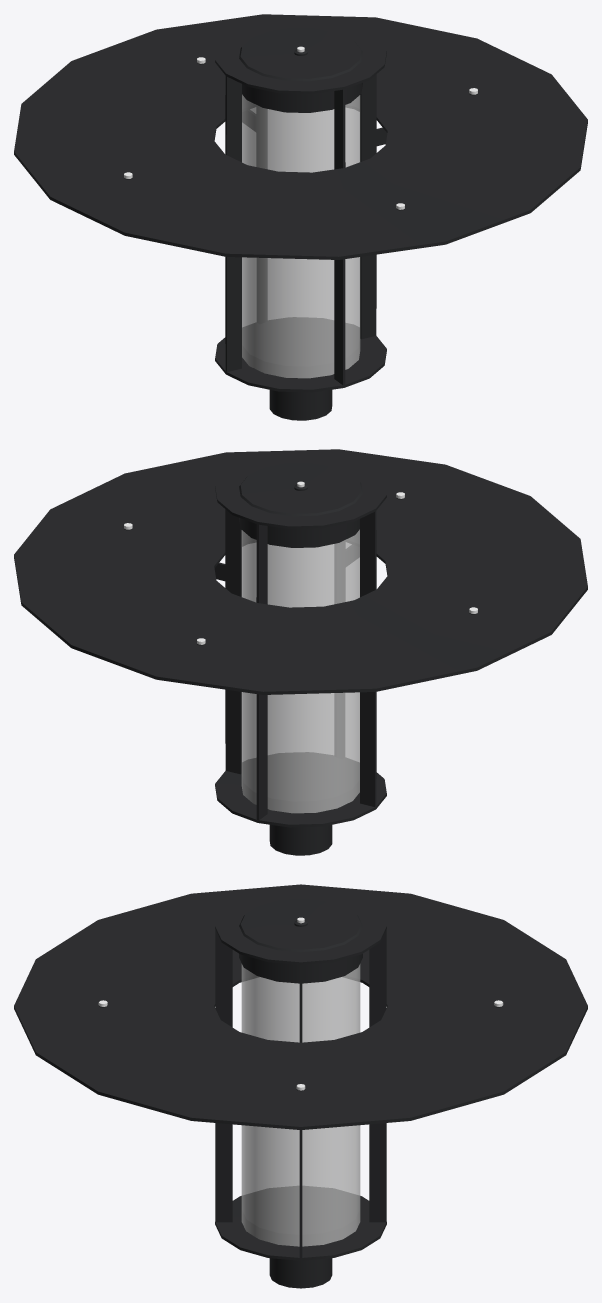
File: Dieter_I.glb
The picture shows the model from 3 angles, top to bottom: view 1: azimuth 30°, elevation 25°; view 2: azimuth 150°, elevation 25°; view 3: azimuth 270°, elevation 25°; orthographic projection.
Parts seen in each view (by area): view 1: BezierCurve.002, Glas, BezierCurve.005; view 2: BezierCurve.002, Glas, BezierCurve.005; view 3: BezierCurve.002, Glas, BezierCurve.005.
Boxes of the visible parts, <box> form: BezierCurve.002: <box>14,14,587,420</box>; Glas: <box>242,94,360,378</box>; BezierCurve.005: <box>225,74,387,385</box>; BezierCurve.002: <box>14,449,587,855</box>; Glas: <box>241,529,359,813</box>; BezierCurve.005: <box>214,509,376,820</box>; BezierCurve.002: <box>14,884,587,1288</box>; Glas: <box>241,964,360,1246</box>; BezierCurve.005: <box>215,929,386,1257</box>.
Size of the model in its own units: 0.82 by 0.5613 by 0.82.
4 materials, 3 textured.
